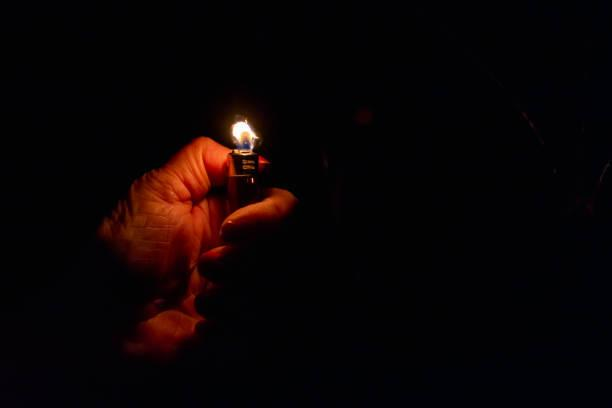Fire: (226, 115, 262, 148)
